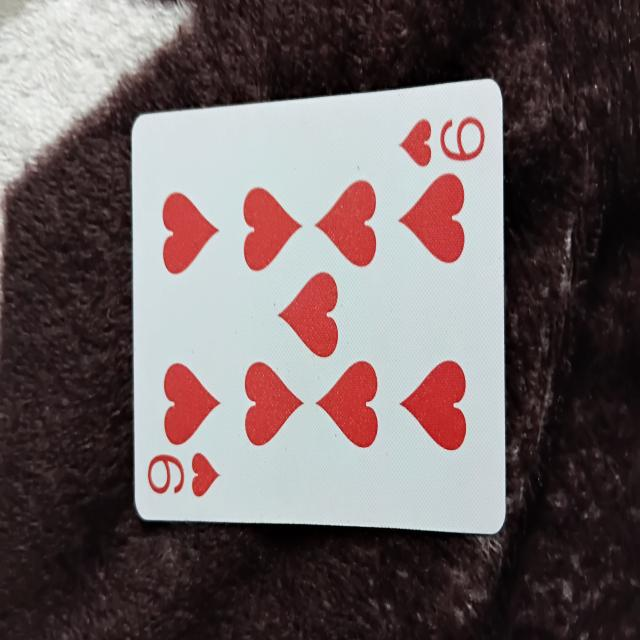9H: (131, 72, 507, 538)
